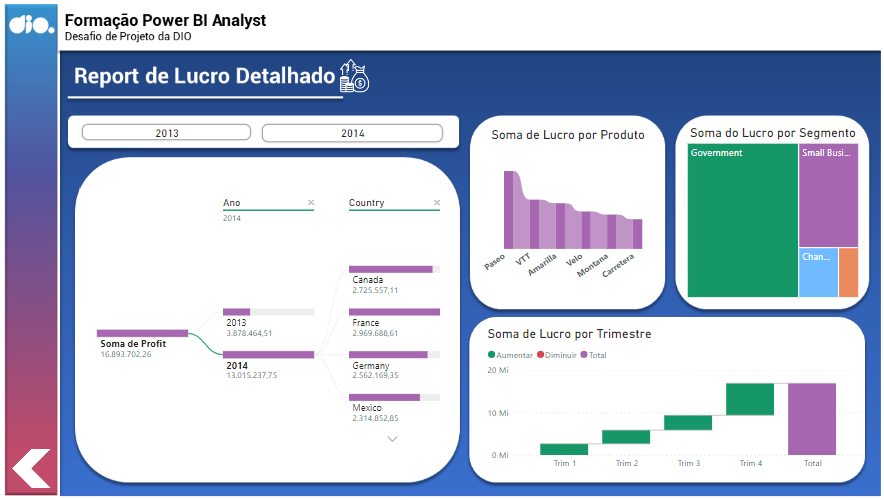

Layout of this report page (visuals, bound fields, positions):
{"tool":"powerbi","page":{"name":"Página 2","canvas":[1280,720],"ordinal":1},"visuals":[{"type":"image","box":[0,0,1280,720],"z":0},{"type":"decompositionTreeVisual","fields":{"ExplainBy":["F_Vendas.Date.Variation.Hierarquia de datas.Ano","F_Vendas.Country","F_Vendas.Date.Variation.Hierarquia de datas.Trimestre","F_Vendas.Date.Variation.Hierarquia de datas.Mês","F_Vendas.Date.Variation.Hierarquia de datas.Dia"],"Analyze":["Sum(F_Vendas.Profit)"]},"box":[117.1,268.6,530,402.9],"z":1000},{"type":"actionButton","title":"2013","box":[126.2,181,241.4,22.9],"z":2000},{"type":"ribbonChart","title":"Soma de Lucro por Produto","fields":{"Category":["F_Vendas.Product"],"Y":["Sum(F_Vendas.Profit)"]},"box":[692.9,185.7,254.3,237.1],"z":3000},{"type":"waterfallChart","title":"Soma de Lucro por Trimestre","fields":{"Y":["Sum(F_Vendas.Profit)"],"Category":["F_Vendas.Date.Variation.Hierarquia de datas.Trimestre"]},"box":[700,470,545.7,214.3],"z":4000},{"type":"treemap","title":"Soma do Lucro por Segmento","fields":{"Values":["Sum(F_Vendas.Profit)"],"Group":["F_Vendas.Segment"]},"box":[985.7,182.9,254.3,251.4],"z":5000},{"type":"actionButton","title":"2014","box":[383,180.7,257.5,25.8],"z":6000},{"type":"shape","box":[25.7,645.7,55.7,55.7],"z":7000},{"type":"image","box":[485,82.1,58.6,58.6],"z":8000}]}

Visuals, with their boxes on the page's 1280x720 design canvas (x1, y1, x2, y2). These are canvas units, not pixel positions in the 884x500 screenshot, which may show the page scaled, cropped or inside an application window:
image: x1=0, y1=0, x2=1280, y2=720
decompositionTreeVisual - F_Vendas.Date.Variation.Hierarquia de datas.Ano x F_Vendas.Country: x1=117, y1=269, x2=647, y2=672
"2013" actionButton: x1=126, y1=181, x2=368, y2=204
"Soma de Lucro por Produto" ribbonChart: x1=693, y1=186, x2=947, y2=423
"Soma de Lucro por Trimestre" waterfallChart: x1=700, y1=470, x2=1246, y2=684
"Soma do Lucro por Segmento" treemap: x1=986, y1=183, x2=1240, y2=434
"2014" actionButton: x1=383, y1=181, x2=640, y2=206
shape: x1=26, y1=646, x2=81, y2=701
image: x1=485, y1=82, x2=544, y2=141
